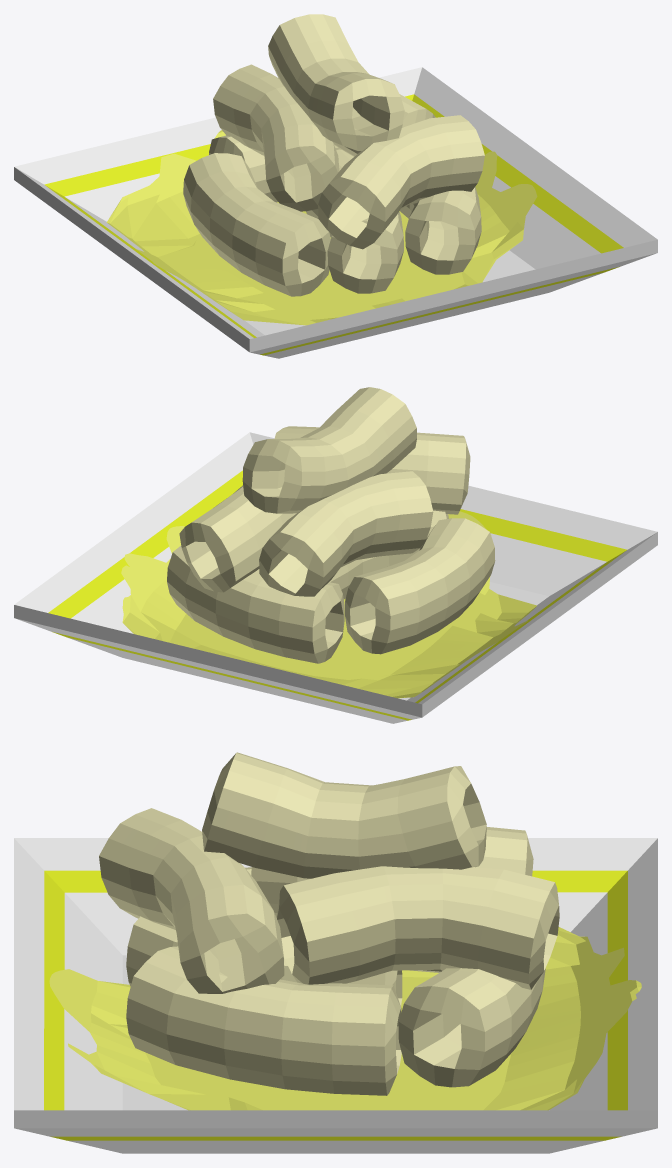
Rendered from split_mac.fbx.
3 renders of one model, top to bottom at view 1: azimuth 30°, elevation 25°; view 2: azimuth 150°, elevation 25°; view 3: azimuth 270°, elevation 25°, orthographic. The views are drawn at different scales.
Visible parts, largest first — view 1: Noodles, Cup, Cheese; view 2: Noodles, Cup, Cheese; view 3: Noodles, Cup, Cheese.
Part boxes in pixels (x1,y1,x2,y2): Noodles: [183, 14, 484, 296]; Cup: [14, 67, 657, 358]; Cheese: [106, 130, 537, 325]; Noodles: [167, 387, 495, 663]; Cup: [14, 432, 657, 723]; Cheese: [121, 511, 536, 698]; Noodles: [99, 752, 559, 1095]; Cup: [14, 838, 657, 1153]; Cheese: [49, 927, 641, 1110].
Size of the model in its own units: 28.8 by 14.83 by 28.8.
